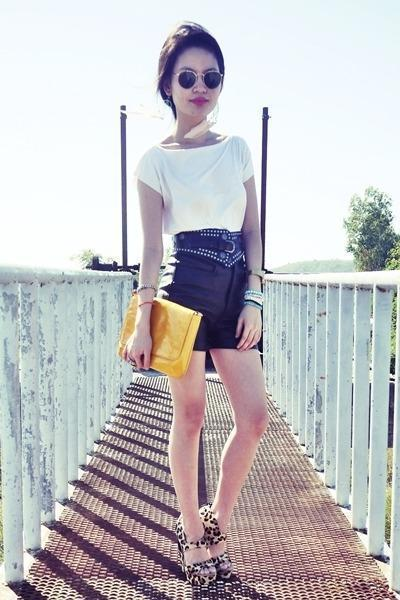bag: (140, 300, 202, 379)
shirt: (132, 136, 258, 252)
shoe: (171, 492, 266, 578)
shorts: (155, 251, 262, 370)
sunglass: (202, 60, 224, 88)
